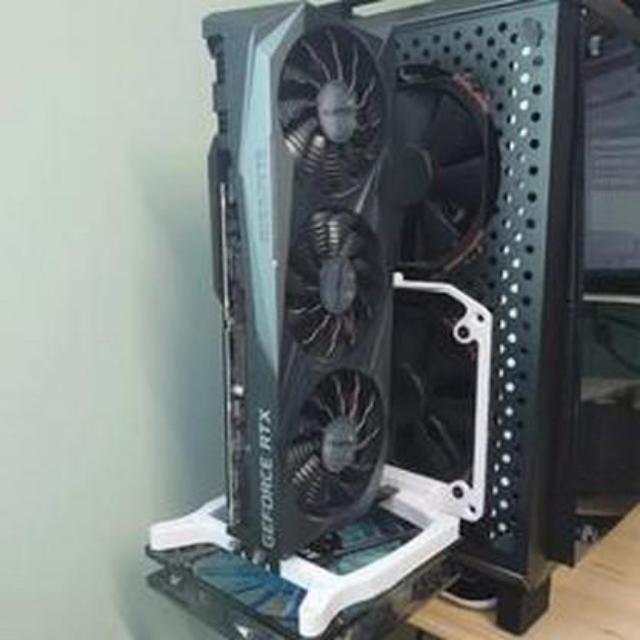GPU: (206, 0, 394, 568)
